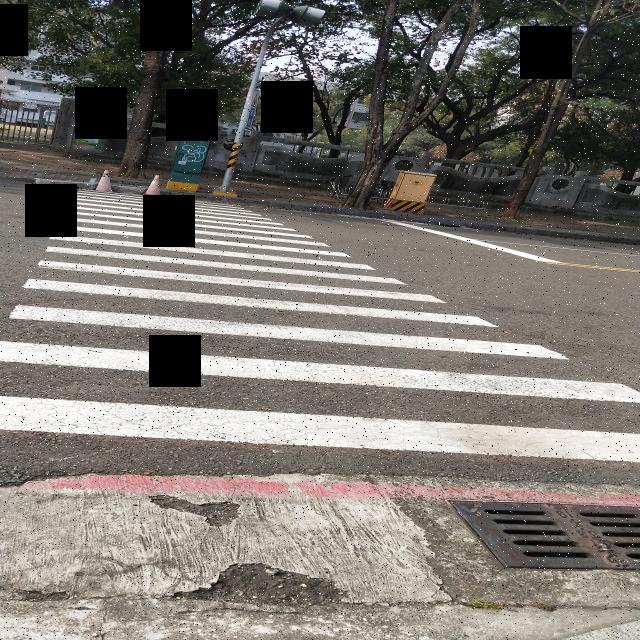zebra crossing: (0, 189, 640, 466)
